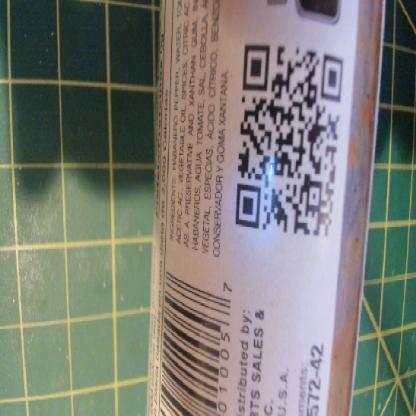barcode: (157, 270, 236, 416)
qr: (230, 40, 351, 245)
